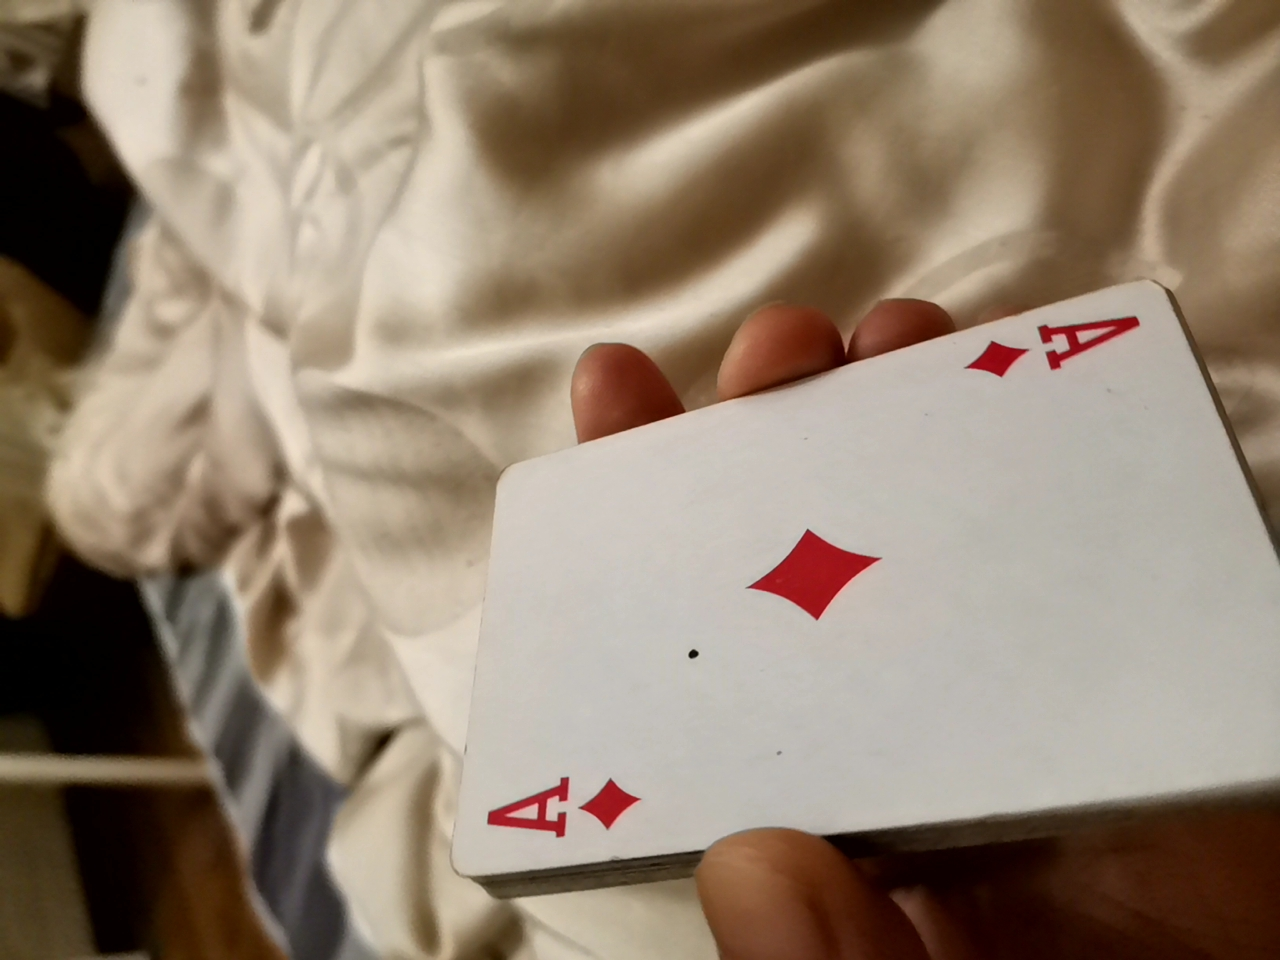fk a: (439, 305, 1280, 869)
